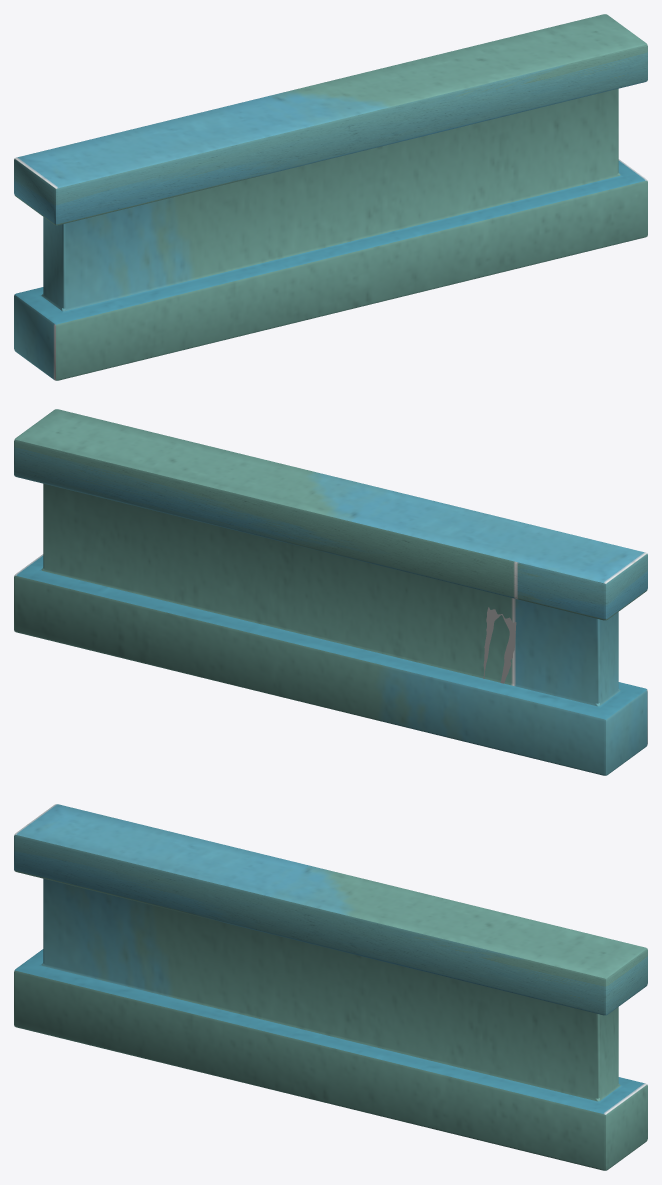
Rendered from TOMB_WALL_3_1.obj.
3 views of the same model, one above another, from view 1: azimuth 30°, elevation 25°; view 2: azimuth 150°, elevation 25°; view 3: azimuth 330°, elevation 25° (orthographic).
Visible parts, largest first — view 1: TOMB_WALL_3_1.003; view 2: TOMB_WALL_3_1.003; view 3: TOMB_WALL_3_1.003.
Part boxes in pixels (left/top/right/bottom): TOMB_WALL_3_1.003: left=14, top=14, right=647, bottom=380; TOMB_WALL_3_1.003: left=14, top=409, right=647, bottom=775; TOMB_WALL_3_1.003: left=14, top=804, right=647, bottom=1170.
Size of the model in its own units: 3.2 by 1 by 0.4.
